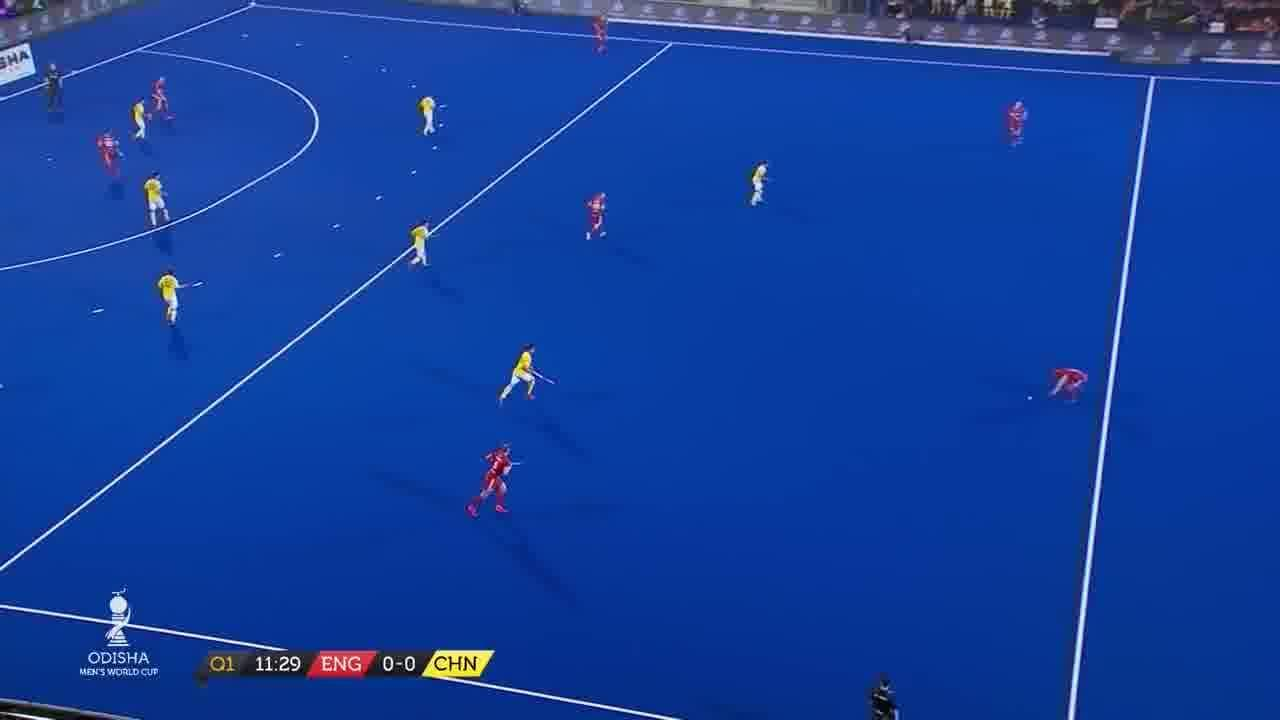ball: (1024, 395, 1038, 404)
